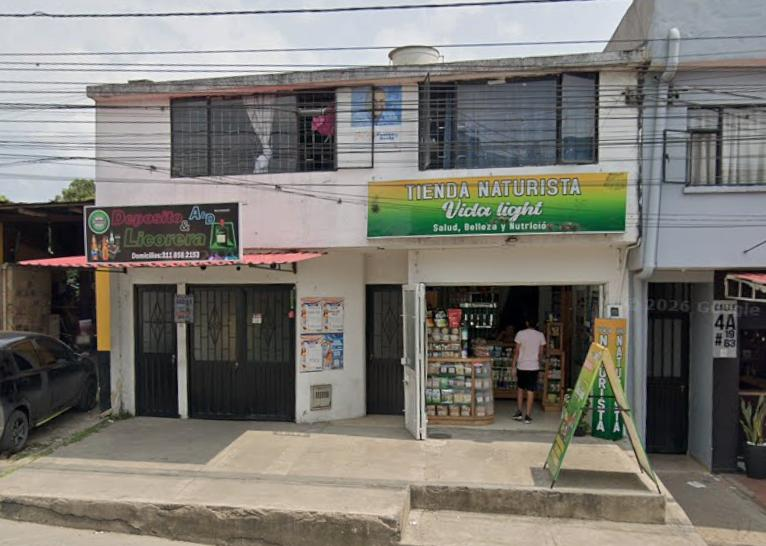casa: (20, 47, 642, 438), (603, 0, 765, 470), (577, 380, 620, 436)
